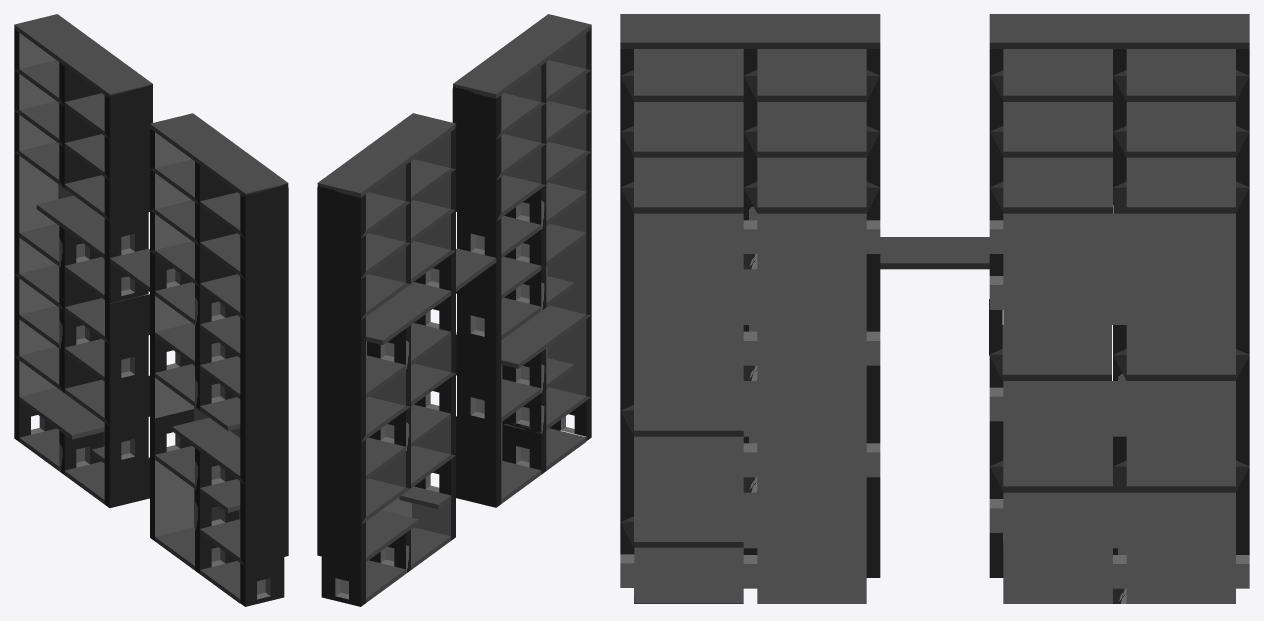
File: Level3.fbx
3 renders of one model, left to right at view 1: azimuth 30°, elevation 25°; view 2: azimuth 150°, elevation 25°; view 3: azimuth 270°, elevation 25°, orthographic. The views are drawn at different scales.
Visible parts, largest first — view 1: Level_3; view 2: Level_3; view 3: Level_3.
Boxes of the visible parts, box(x1,y1,x2,y2) form: Level_3: box(14, 14, 288, 606); Level_3: box(317, 14, 591, 606); Level_3: box(620, 14, 1249, 603).
Size of the model in its own units: 10 by 91 by 92.03.
